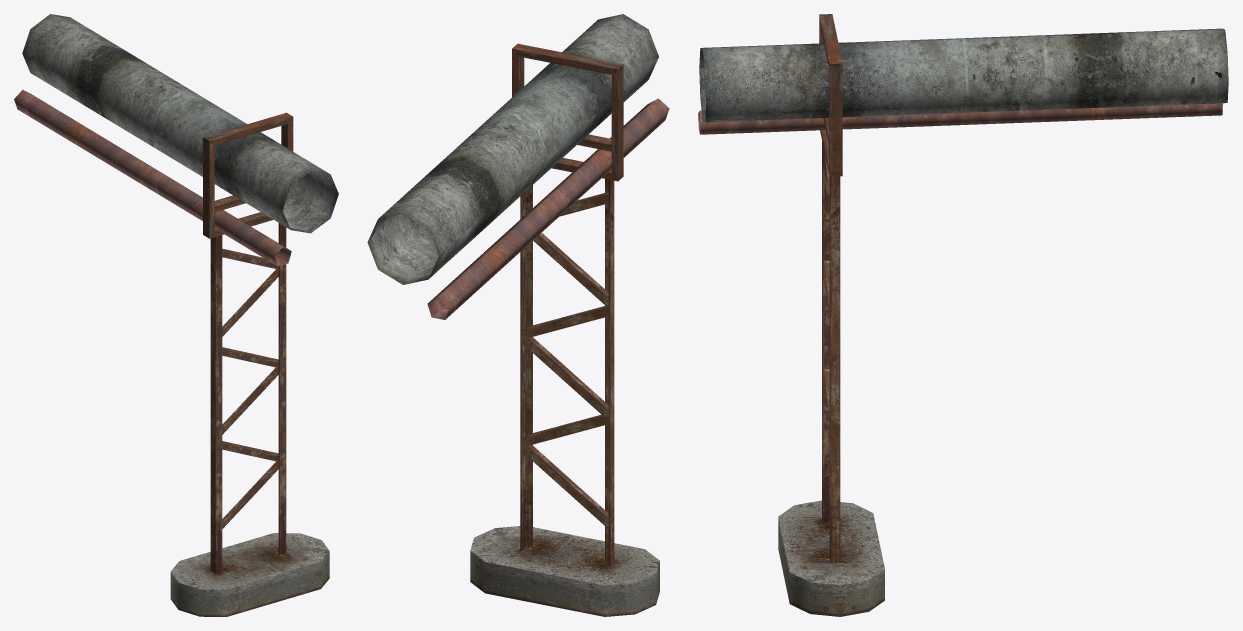
File: Pipes_set_v1_H_set_v2.glb
3 views of the same model, side by side, from view 1: azimuth 30°, elevation 25°; view 2: azimuth 150°, elevation 25°; view 3: azimuth 270°, elevation 25° (orthographic). The views are drawn at different scales.
Visible parts, largest first — view 1: Pipes_set_v1_H_set_v2; view 2: Pipes_set_v1_H_set_v2; view 3: Pipes_set_v1_H_set_v2.
Boxes of the visible parts, left/top/right/bottom form: Pipes_set_v1_H_set_v2: left=14, top=14, right=338, bottom=616; Pipes_set_v1_H_set_v2: left=367, top=14, right=669, bottom=616; Pipes_set_v1_H_set_v2: left=698, top=14, right=1228, bottom=616.
Size of the model in its own units: 1.76 by 5.15 by 4.64.
Materials: 1 (1 with a texture image).
